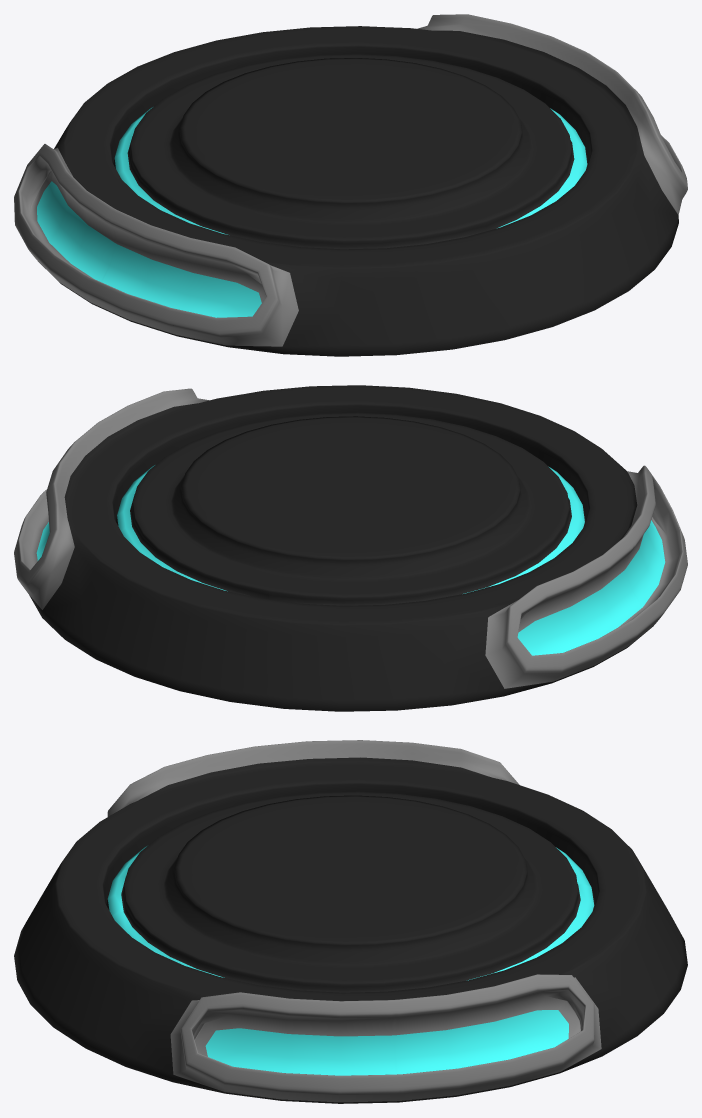
Rendered from Item_Foundation.fbx.
3 views of the same model, one above another, from view 1: azimuth 30°, elevation 25°; view 2: azimuth 150°, elevation 25°; view 3: azimuth 270°, elevation 25° (orthographic). The views are drawn at different scales.
Parts seen in each view (by area): view 1: Cylinder001; view 2: Cylinder001; view 3: Cylinder001.
Part boxes in pixels (box(x1,y1,x2,y2)): Cylinder001: box(14, 14, 687, 356); Cylinder001: box(14, 385, 687, 711); Cylinder001: box(14, 740, 687, 1103).
Bounding box in the file's own units: 173 × 25.35 × 166.
